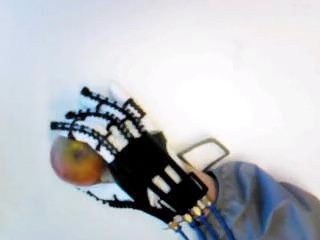apple: (52, 130, 107, 185)
hand: (50, 86, 209, 228)
